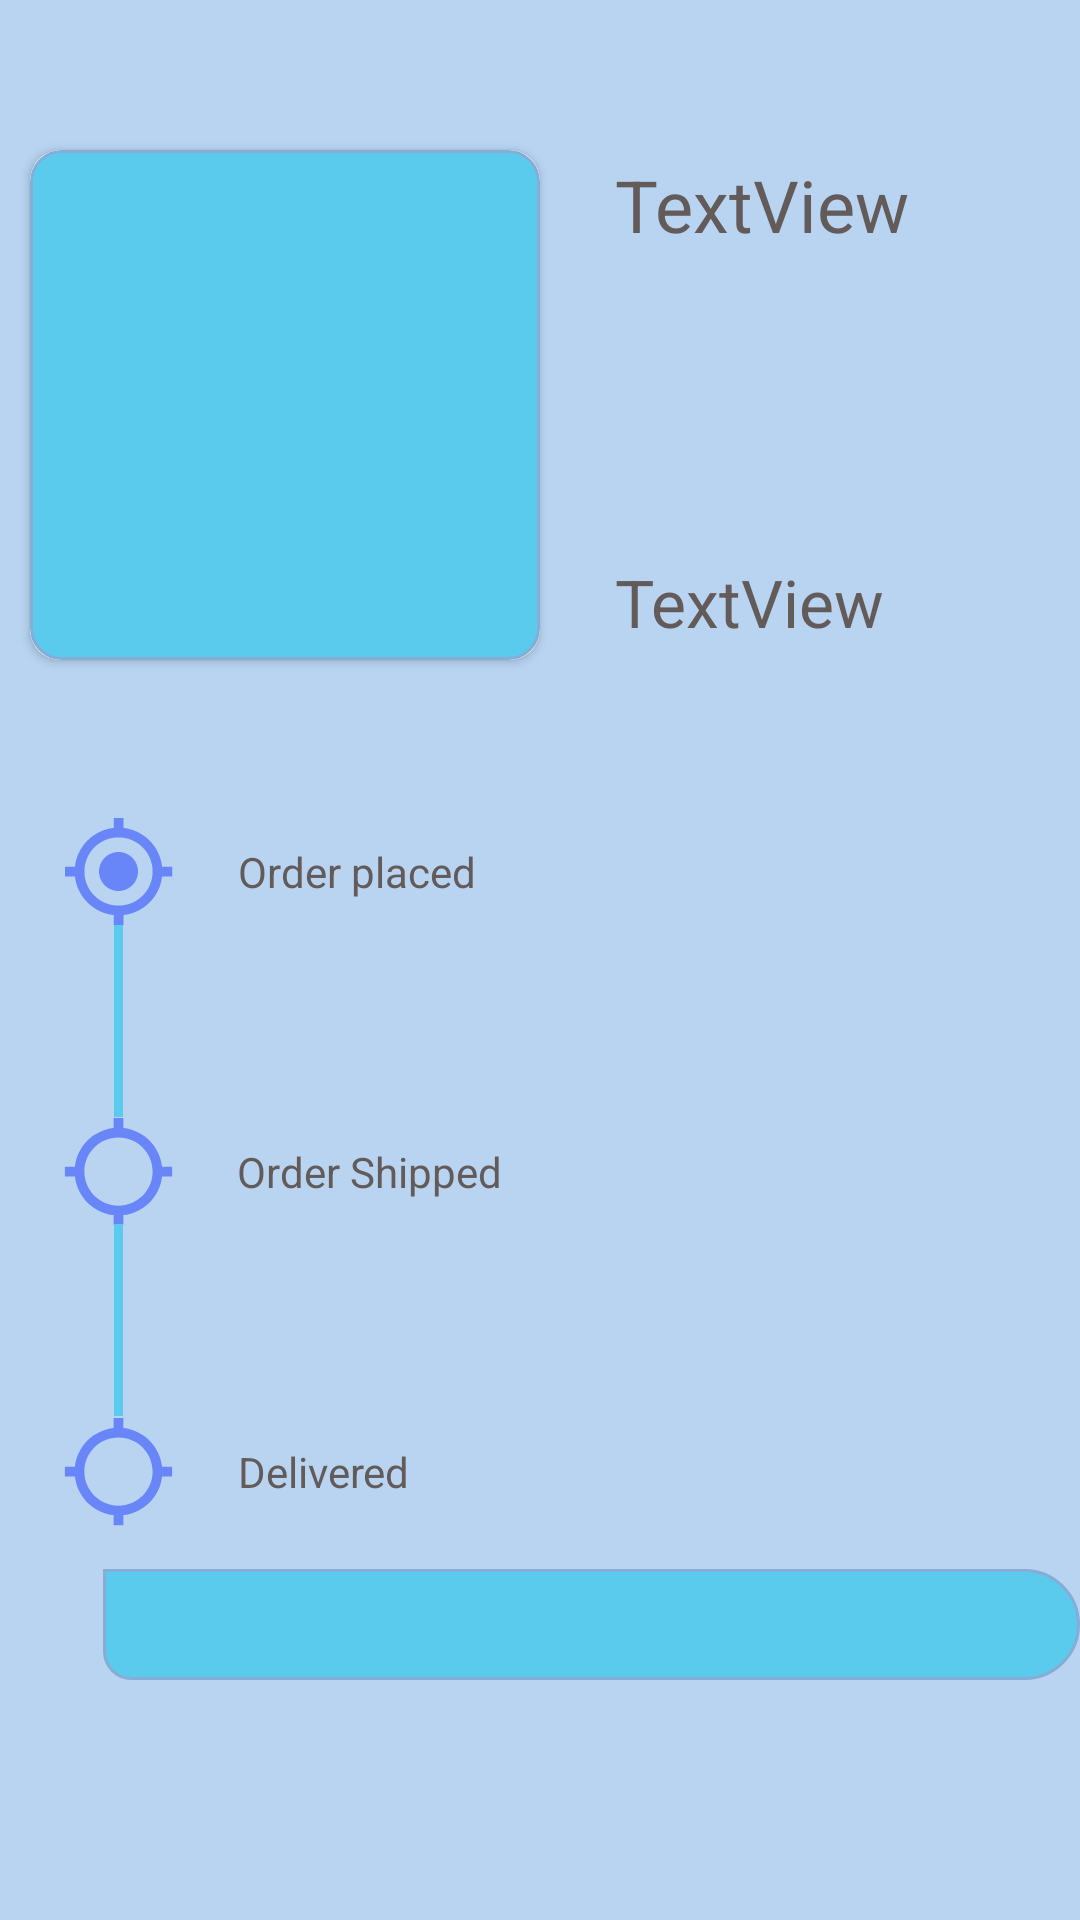

Locate icon controls on the screen. Image size 1080px×1920px, boxes as (x1,y1,x2,y2).
location: (65,818,172,933)
location searching: (65,1110,172,1233), (65,1418,172,1525)
